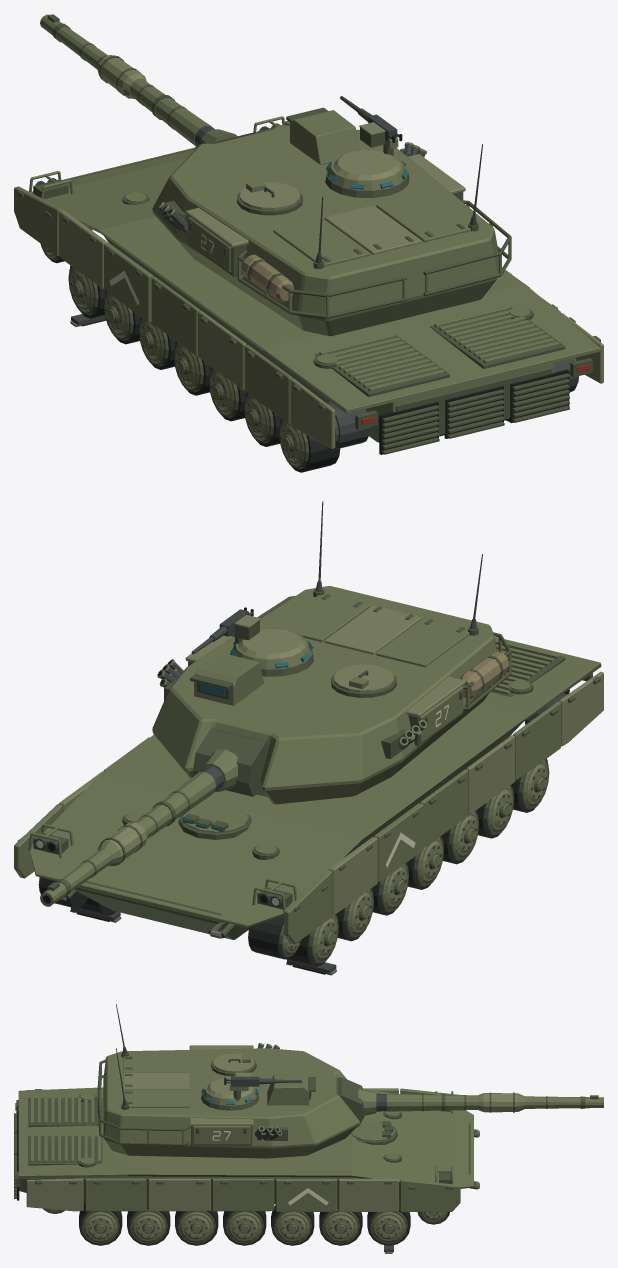
The model's file is m1_abrams.glb.
The picture shows the model from 3 angles, top to bottom: view 1: azimuth 30°, elevation 25°; view 2: azimuth 150°, elevation 25°; view 3: azimuth 270°, elevation 25°; orthographic projection. The views are drawn at different scales.
Visible parts, largest first — view 1: Cast and welded turret • short cheek array.001, Upper hull • glacis and shoulders.001, Turbine deck and rear exhaust grilles.001, Ammunition bustle • three blow-off panels.001, M68A1 • shield, thermal sleeve and bore.001, Commander cupola • vision ring.001, Lower hull • bevelled belly.001, Gunner primary sight • armoured hood.001, Lighting, brush guards and tow eyes.001, Stowage bin • L.001, Skirt 05 • L.001, Skirt 04 • L.001 (+20 smaller); view 2: Upper hull • glacis and shoulders.001, Cast and welded turret • short cheek array.001, M68A1 • shield, thermal sleeve and bore.001, Ammunition bustle • three blow-off panels.001, Lower hull • bevelled belly.001, Lighting, brush guards and tow eyes.001, Gunner primary sight • armoured hood.001, Commander cupola • vision ring.001, Skirt 05 • L.001, Skirt 02 • L.001, Skirt 04 • L.001, Skirt 06 • L.001 (+20 smaller); view 3: Upper hull • glacis and shoulders.001, Cast and welded turret • short cheek array.001, M68A1 • shield, thermal sleeve and bore.001, Turbine deck and rear exhaust grilles.001, Ammunition bustle • three blow-off panels.001, Skirt 05 • R.001, Skirt 04 • R.001, Skirt 06 • R.001, Skirt 02 • R.001, Skirt 03 • R.001, Skirt 01 • R.001, Skirt 07 • R.001 (+17 smaller).
Boxes of the visible parts, x1,y1,x2,y2 form: Cast and welded turret • short cheek array.001: (152, 125, 498, 336); Upper hull • glacis and shoulders.001: (32, 147, 601, 415); Turbine deck and rear exhaust grilles.001: (315, 305, 569, 454); Ammunition bustle • three blow-off panels.001: (273, 193, 470, 266); M68A1 • shield, thermal sleeve and bore.001: (40, 14, 265, 148); Commander cupola • vision ring.001: (325, 150, 409, 197); Lower hull • bevelled belly.001: (67, 148, 552, 442); Gunner primary sight • armoured hood.001: (286, 107, 359, 164); Lighting, brush guards and tow eyes.001: (29, 116, 592, 429); Stowage bin • L.001: (185, 207, 248, 276); Skirt 05 • L.001: (198, 310, 246, 390); Skirt 04 • L.001: (151, 276, 199, 355); Upper hull • glacis and shoulders.001: (29, 637, 601, 927); Cast and welded turret • short cheek array.001: (152, 585, 499, 804); M68A1 • shield, thermal sleeve and bore.001: (40, 728, 268, 906); Ammunition bustle • three blow-off panels.001: (273, 593, 469, 667); Lower hull • bevelled belly.001: (74, 721, 523, 939); Lighting, brush guards and tow eyes.001: (28, 673, 592, 938); Gunner primary sight • armoured hood.001: (190, 652, 263, 705); Commander cupola • vision ring.001: (230, 628, 313, 676); Skirt 05 • L.001: (466, 735, 515, 814); Skirt 02 • L.001: (329, 837, 377, 914); Skirt 04 • L.001: (420, 769, 468, 847); Skirt 06 • L.001: (513, 701, 560, 779); Upper hull • glacis and shoulders.001: (18, 1087, 473, 1188); Cast and welded turret • short cheek array.001: (103, 1048, 359, 1158); M68A1 • shield, thermal sleeve and bore.001: (337, 1077, 603, 1126); Turbine deck and rear exhaust grilles.001: (14, 1097, 102, 1200); Ammunition bustle • three blow-off panels.001: (123, 1055, 189, 1107); Skirt 05 • R.001: (148, 1178, 210, 1211); Skirt 04 • R.001: (212, 1178, 274, 1211); Skirt 06 • R.001: (85, 1178, 146, 1211); Skirt 02 • R.001: (338, 1178, 398, 1211); Skirt 03 • R.001: (275, 1178, 337, 1211); Skirt 01 • R.001: (400, 1178, 460, 1211); Skirt 07 • R.001: (26, 1178, 83, 1211).
Size of what is drawn, in the model's own units: 2.65 by 2.51 by 7.09.
